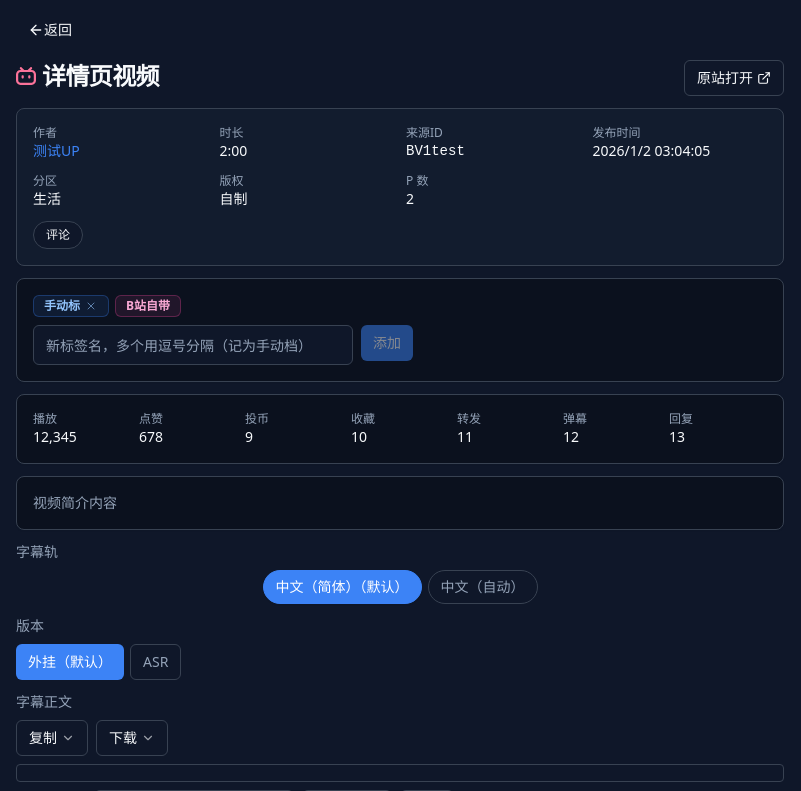
Test case: 添加标签：逗号/中文逗号切分 → POST manual 档 → toast + reload + 清空输入
Expected: the text "详情页视频" is shown, 42,60 -> 159,92
Step 1. Type "标签A，标签B, 标签C" into the field with placeholder "新标签名，多个用逗号分隔（记为手动档）" → (193, 345), box 33,325 -> 353,365
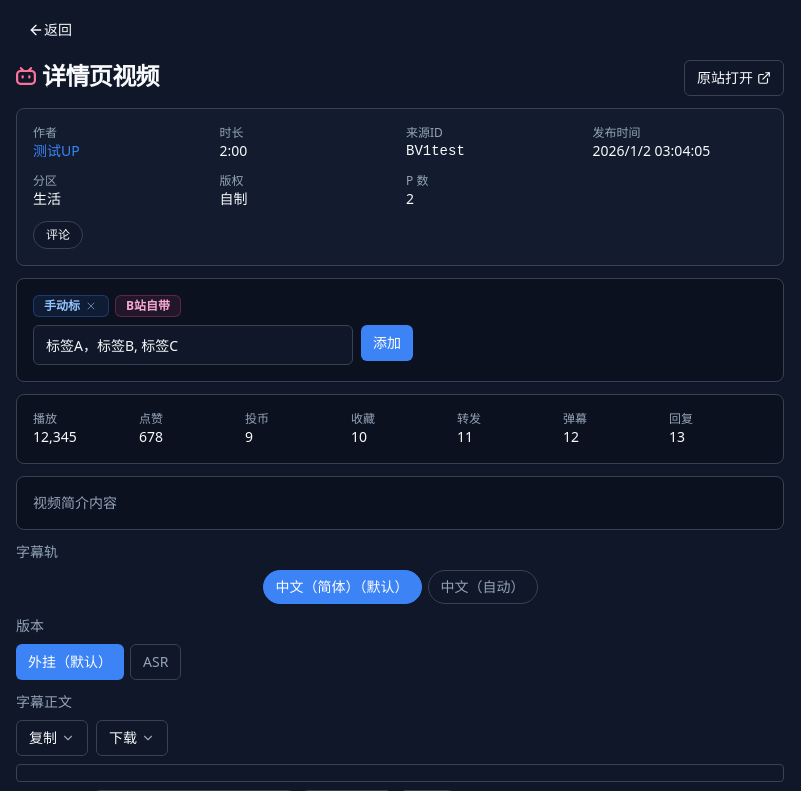
Step 2. Click the button "添加" → (387, 343), box 361,325 -> 413,361
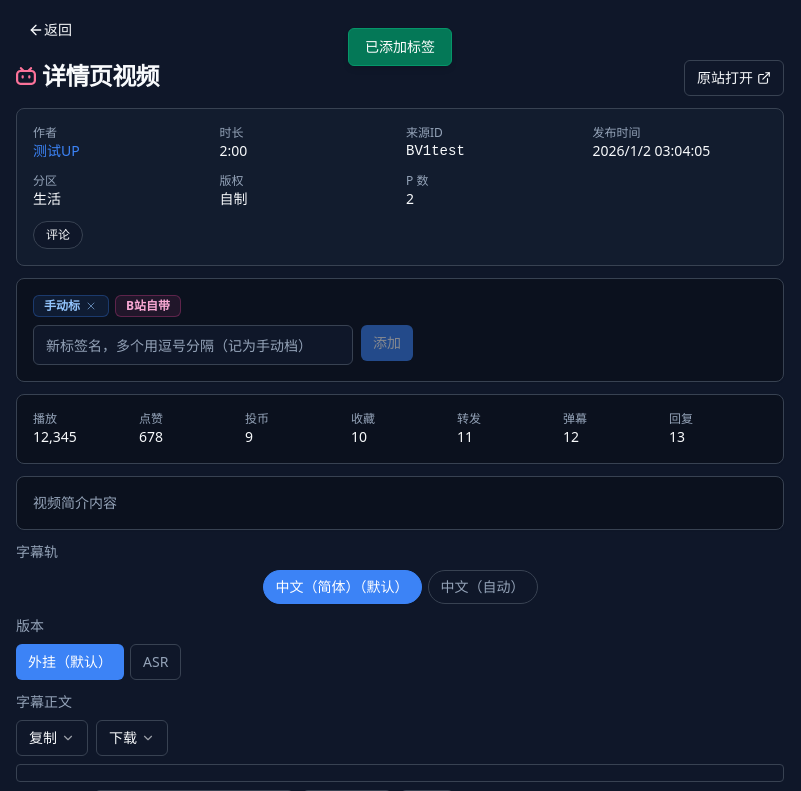
Result: the text "已添加标签" is shown at 348,28 -> 452,66
Result: the field with placeholder "新标签名，多个用逗号分隔（记为手动档）" is empty at 33,325 -> 353,365
